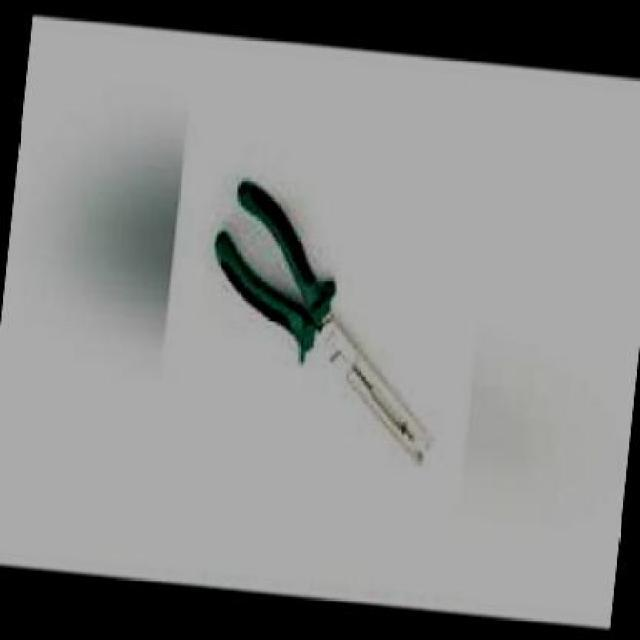pliers: (177, 163, 472, 474)
